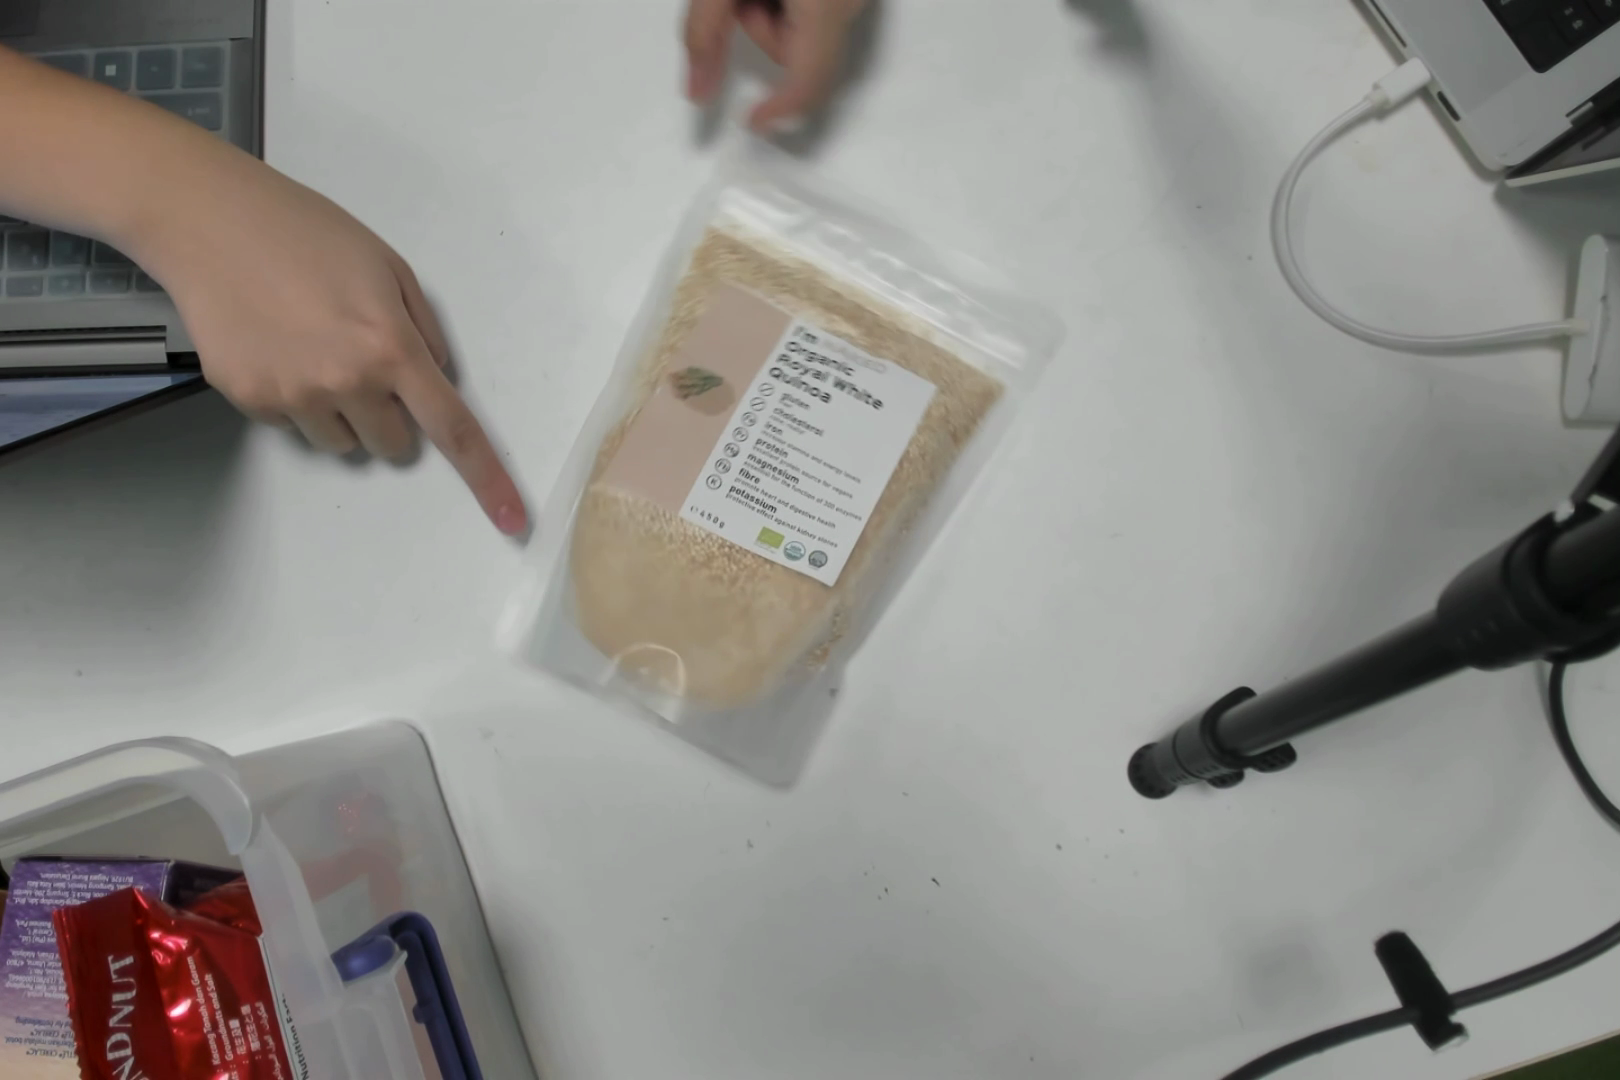Rice(brown-others)_400-499g_Halal_NonHealthy: (586, 215, 963, 765)
